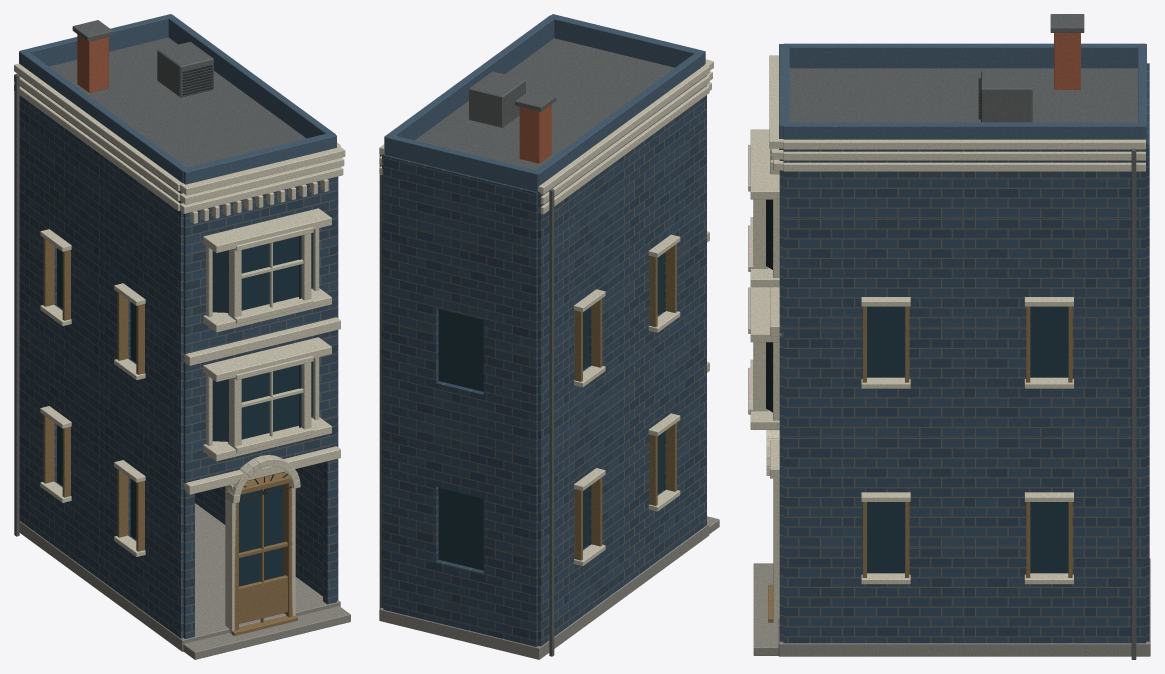
File: VICT3A_lod1.glb
The picture shows the model from 3 angles, left to right: view 1: azimuth 30°, elevation 25°; view 2: azimuth 150°, elevation 25°; view 3: azimuth 270°, elevation 25°; orthographic projection. The views are drawn at different scales.
Parts seen in each view (by area): view 1: VICT3A_LOD1; view 2: VICT3A_LOD1; view 3: VICT3A_LOD1.
Part boxes in pixels (bbox=[...]): VICT3A_LOD1: bbox=[14, 14, 350, 659]; VICT3A_LOD1: bbox=[379, 14, 719, 659]; VICT3A_LOD1: bbox=[748, 14, 1150, 659].
Bounding box in the file's own units: 3.71 × 10.45 × 6.65.
Materials: 10 (8 with a texture image).
